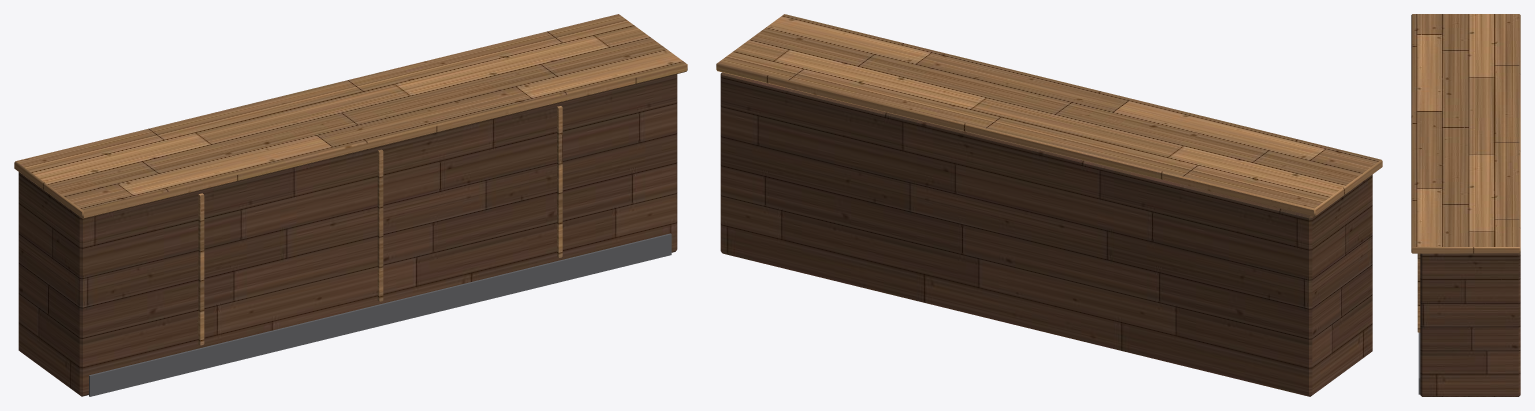
File: counter.glb
3 views of the same model, side by side, from view 1: azimuth 30°, elevation 25°; view 2: azimuth 150°, elevation 25°; view 3: azimuth 270°, elevation 25° (orthographic). The views are drawn at different scales.
Visible parts, largest first — view 1: counter_dkwood, counter_wood, counter_dark; view 2: counter_dkwood, counter_wood; view 3: counter_wood, counter_dkwood, counter_dark.
Boxes of the visible parts, left/top/right/bottom form: counter_dkwood: left=18, top=74, right=677, bottom=396; counter_wood: left=14, top=14, right=687, bottom=345; counter_dark: left=89, top=233, right=671, bottom=396; counter_dkwood: left=720, top=72, right=1372, bottom=396; counter_wood: left=716, top=14, right=1382, bottom=216; counter_wood: left=1411, top=14, right=1520, bottom=332; counter_dkwood: left=1420, top=253, right=1520, bottom=396; counter_dark: left=1418, top=332, right=1420, bottom=394.
Size of the model in its own units: 3.04 by 0.92 by 0.6.
3 materials, 2 textured.
